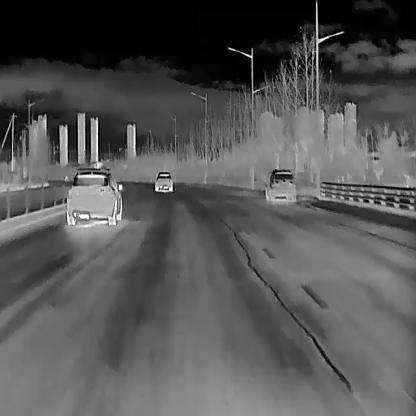car: (66, 167, 122, 225), (264, 168, 296, 203), (154, 170, 172, 192)
